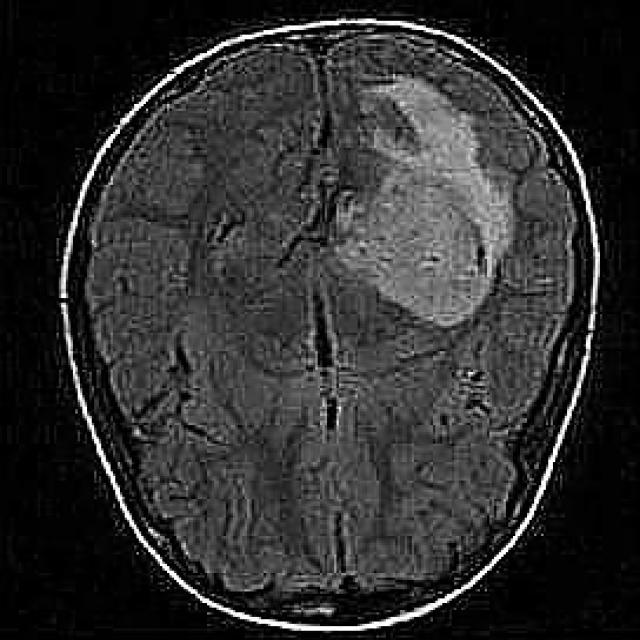Tumor-Cell: (356, 76, 502, 301)
